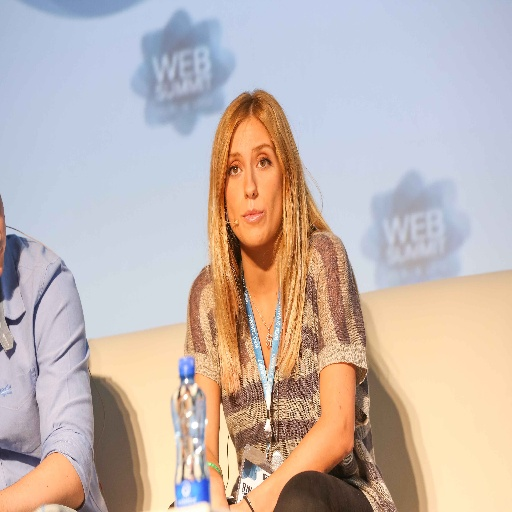hand: (208, 476, 231, 511), (228, 498, 251, 511)
